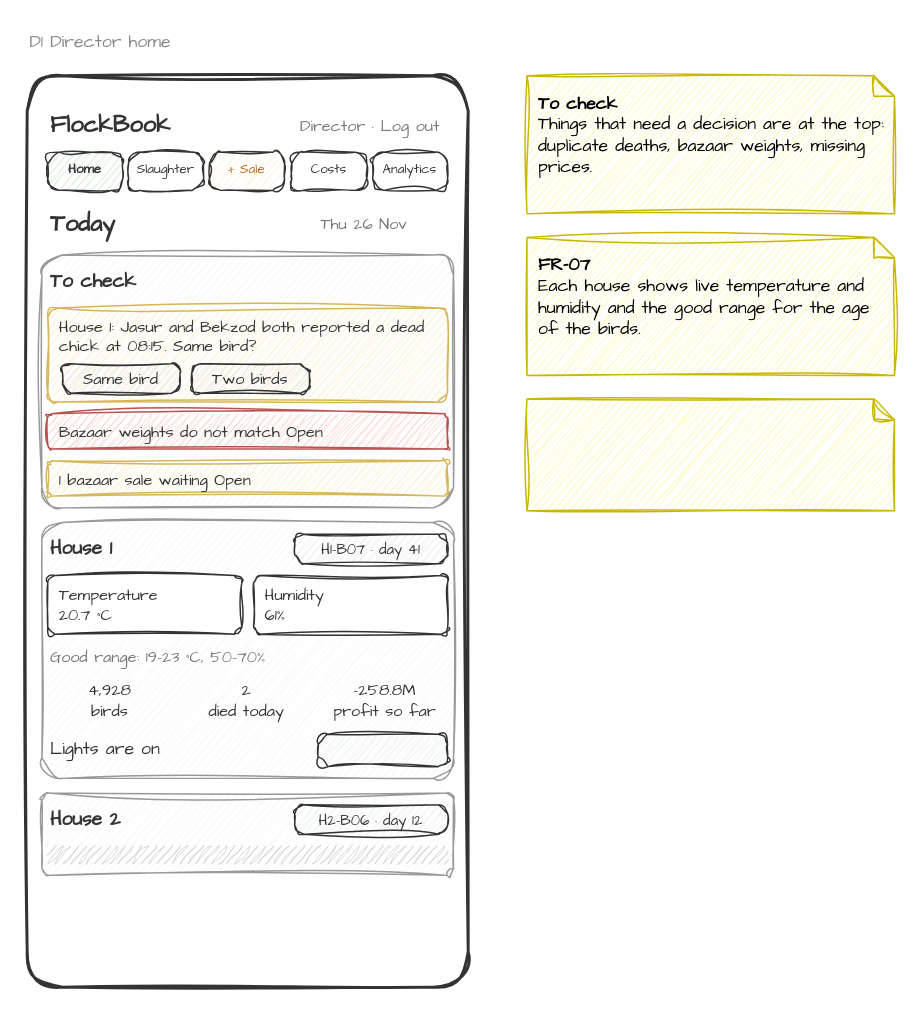
Some shapes in this 920 by 1013 pixel diagram are drawn without their labels. Here are the shapes that lost their labels. From the top down, the centre of each, then its label:
(710,454): FR-03 / FR-08 Profit of this batch so far, and a light switch.
(382,750): Turn off
